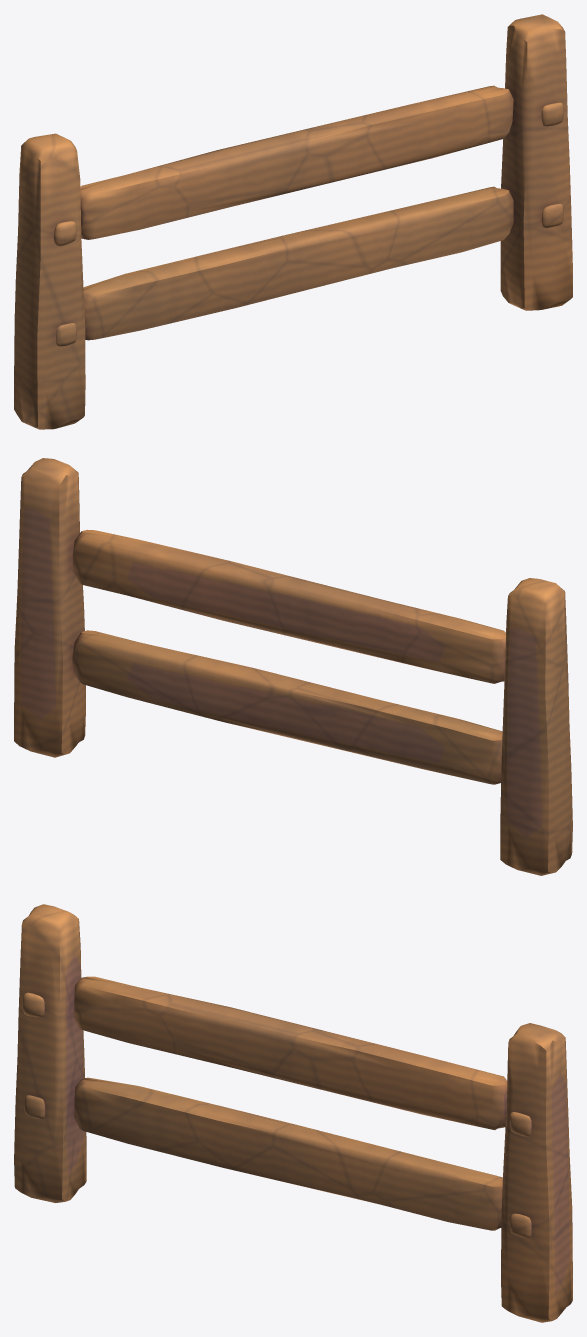
Rendered from P01_TimberFence.fbx.
The picture shows the model from 3 angles, top to bottom: view 1: azimuth 30°, elevation 25°; view 2: azimuth 150°, elevation 25°; view 3: azimuth 330°, elevation 25°; orthographic projection.
Parts seen in each view (by area): view 1: P01_TimberFence; view 2: P01_TimberFence; view 3: P01_TimberFence.
Boxes of the visible parts, bbox=[...] form: P01_TimberFence: bbox=[14, 14, 572, 429]; P01_TimberFence: bbox=[14, 458, 572, 875]; P01_TimberFence: bbox=[14, 904, 572, 1322].
Bounding box in the file's own units: 2 × 1 × 0.2098.
